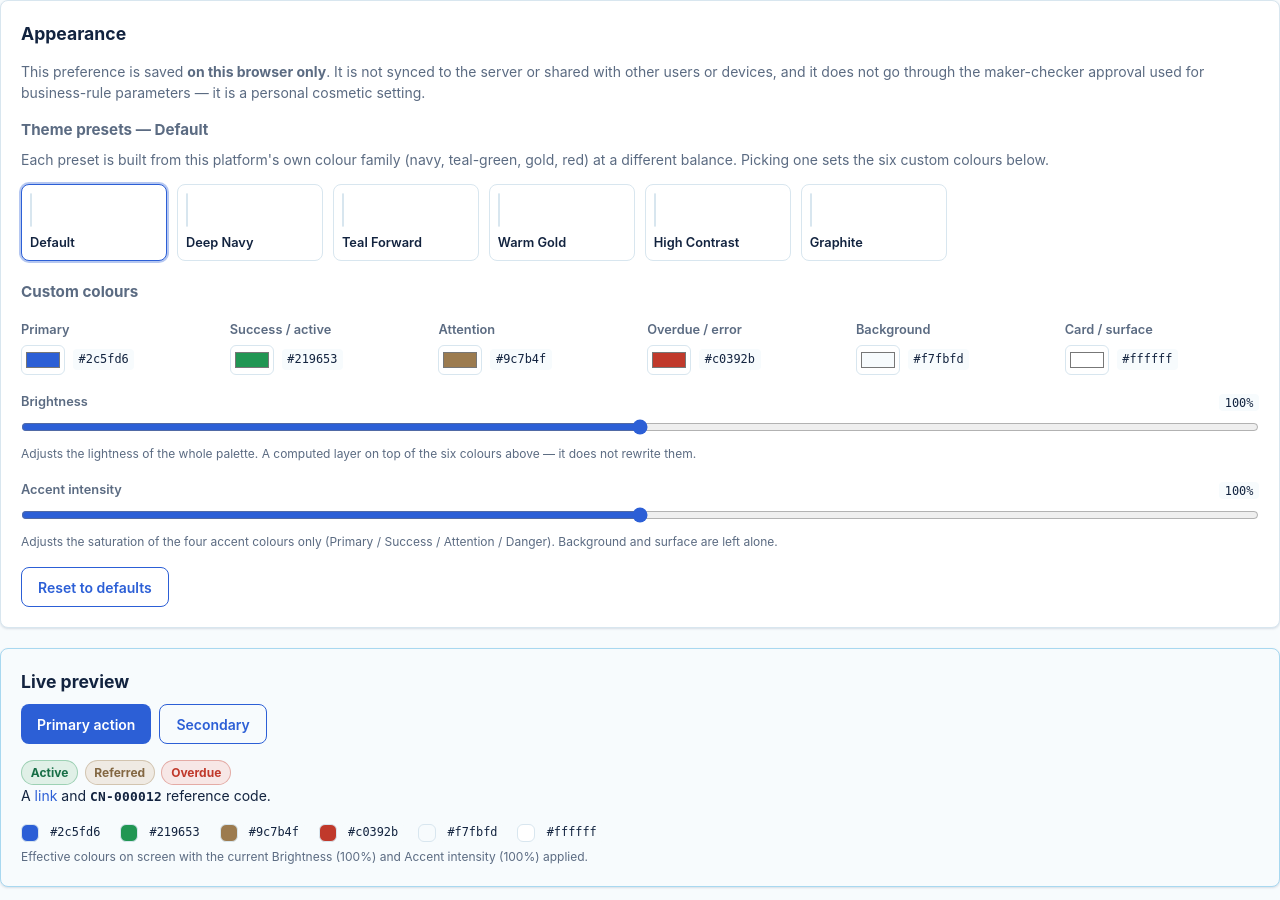
Step 17 — preset gallery › hand-editing a colour after a preset flips the indicator to 'Custom' (no false selection)
Click the radio button with test id "preset-teal-forward" at (406, 222), box [333,184,479,261]
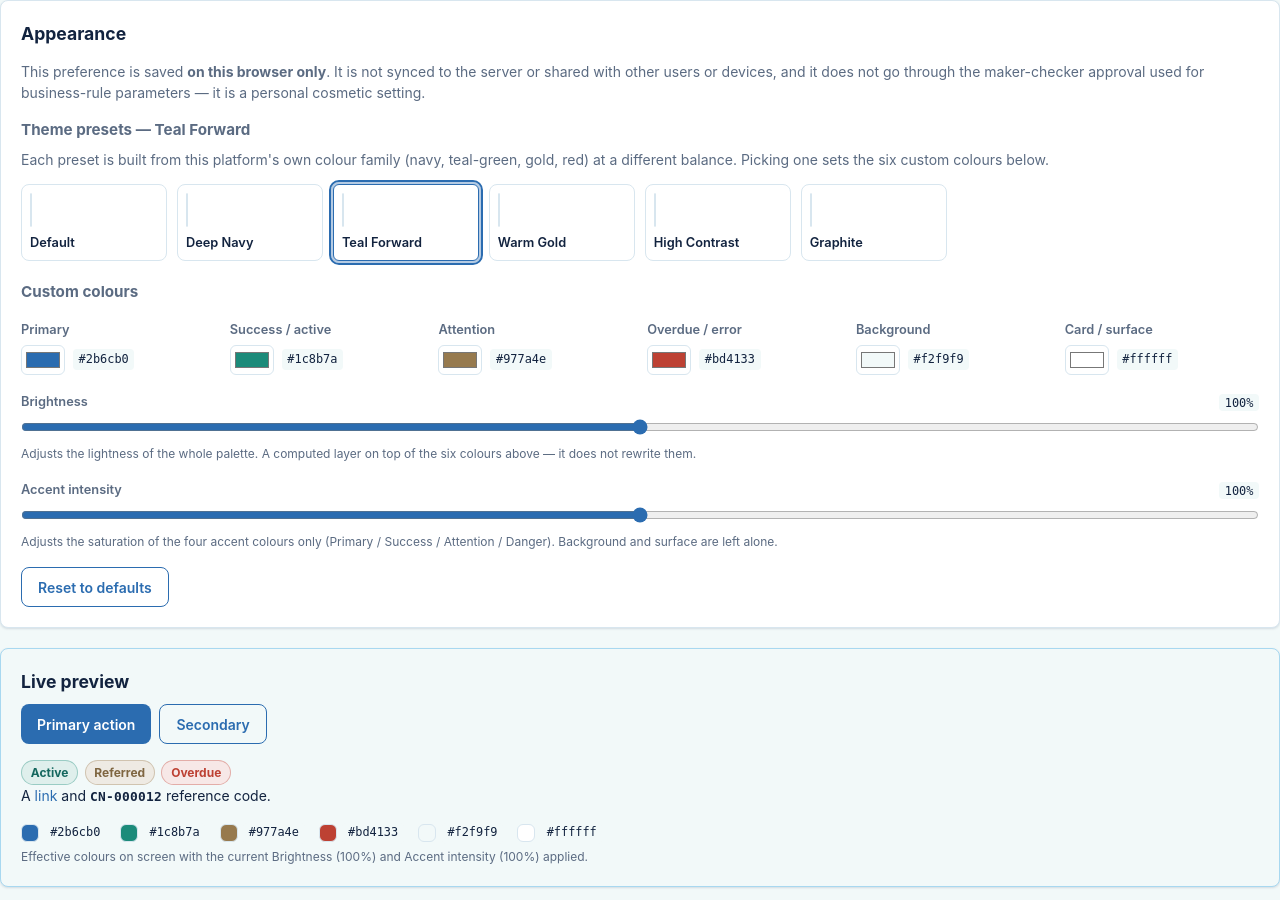
Type "#101820" into the colour field with test id "appearance-input-primary" at (43, 360), box [21,345,65,375]
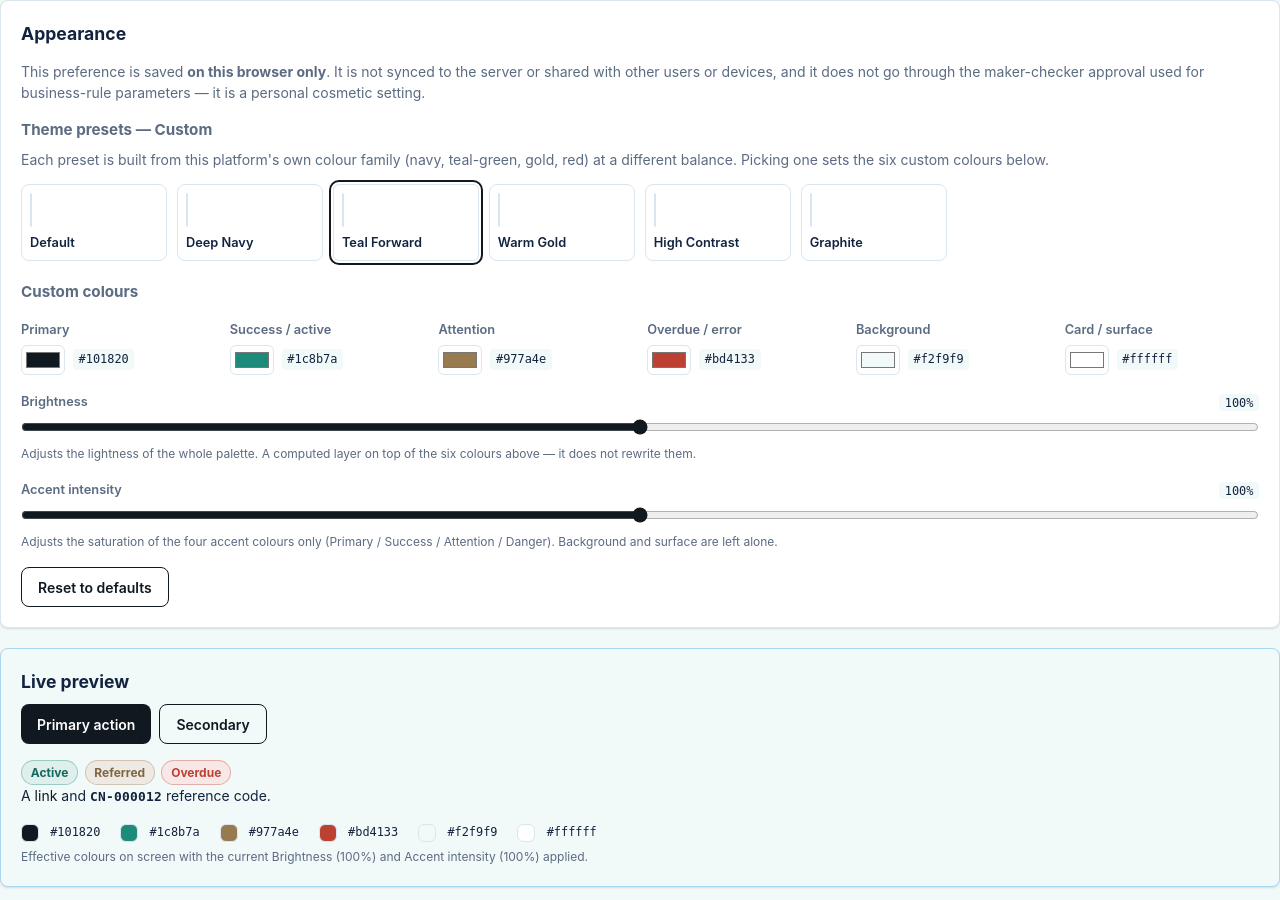
Expected: the text with test id "preset-active" shows "Custom", [154,120,212,139]
